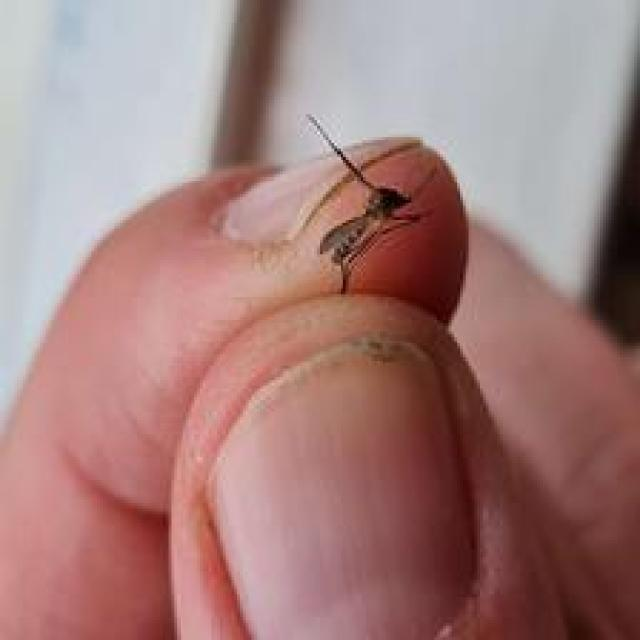Culex: (302, 112, 424, 294)
